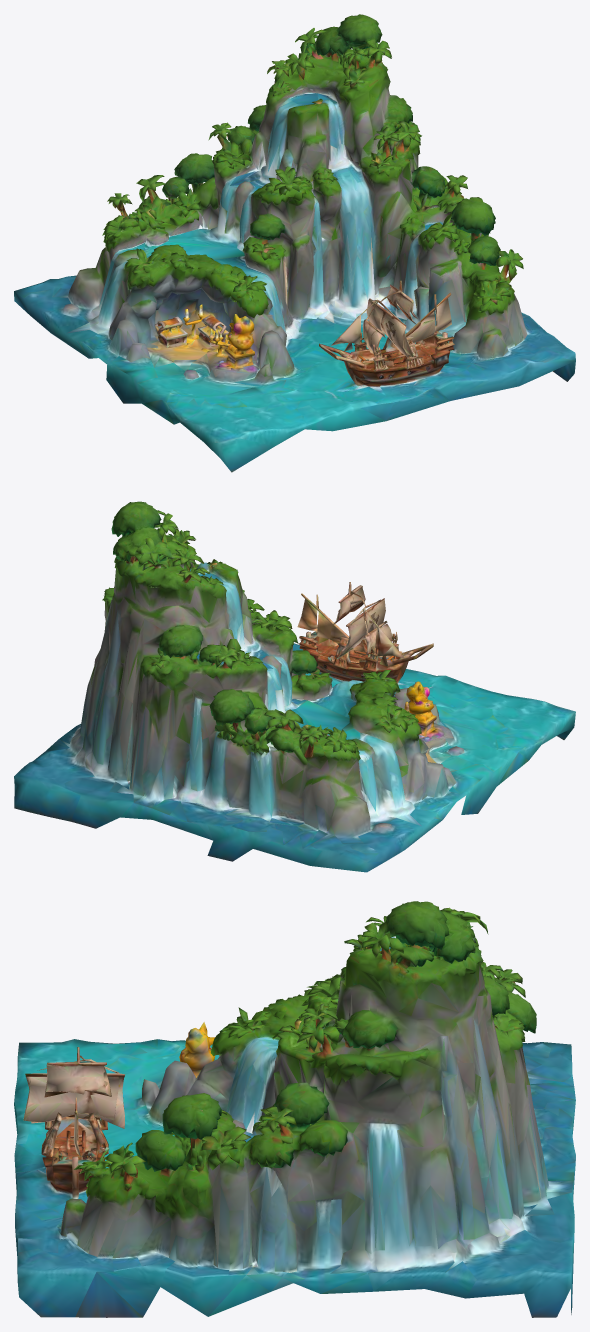
The model's file is m_cocos_animated.glb.
3 renders of one model, top to bottom at view 1: azimuth 30°, elevation 25°; view 2: azimuth 150°, elevation 25°; view 3: azimuth 270°, elevation 25°, orthographic. The views are drawn at different scales.
Parts seen in each view (by area): view 1: m_cocos_Living_Scenery; view 2: m_cocos_Living_Scenery; view 3: m_cocos_Living_Scenery.
Boxes of the visible parts, x1,y1,x2,y2 form: m_cocos_Living_Scenery: [14, 14, 575, 472]; m_cocos_Living_Scenery: [14, 501, 575, 872]; m_cocos_Living_Scenery: [14, 901, 575, 1317].
Bounding box in the file's own units: 0.9408 × 0.6882 × 0.9472.
Materials: 1 (1 with a texture image).
